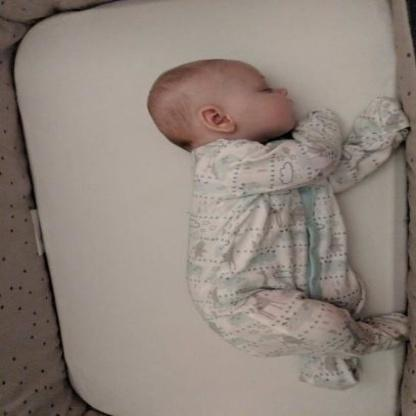baby: (145, 58, 412, 392)
